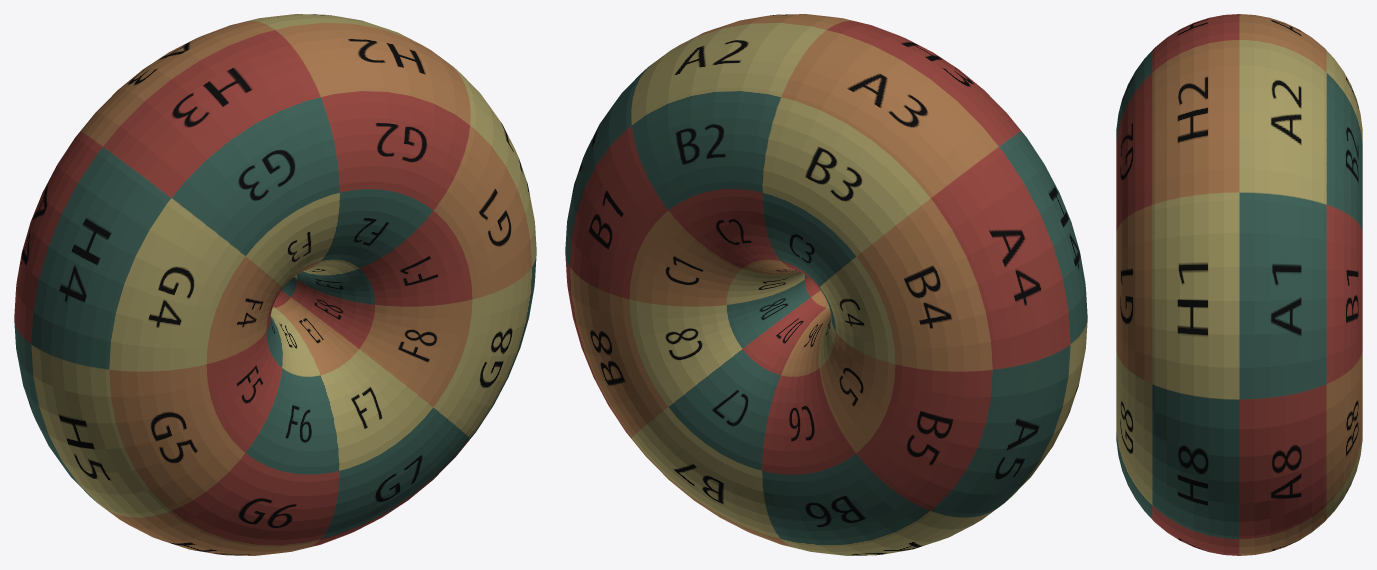
The model's file is texture_torus_R2_r28.glb.
3 renders of one model, left to right at view 1: azimuth 30°, elevation 25°; view 2: azimuth 150°, elevation 25°; view 3: azimuth 270°, elevation 25°, orthographic. The views are drawn at different scales.
Visible parts, largest first — view 1: world; view 2: world; view 3: world.
Part boxes in pixels (x1=…): world: x1=14, y1=14, x2=536, y2=555; world: x1=565, y1=14, x2=1087, y2=555; world: x1=1116, y1=14, x2=1362, y2=555.
Bounding box in the file's own units: 20.8 × 20.76 × 9.45.
Materials: 1 (1 with a texture image).
